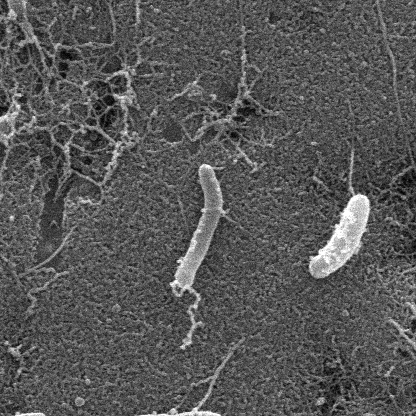cell2surface: (194, 335, 247, 411)
filament: (171, 163, 225, 293)
regular: (307, 193, 373, 278), (118, 413, 223, 416), (0, 413, 47, 416)
